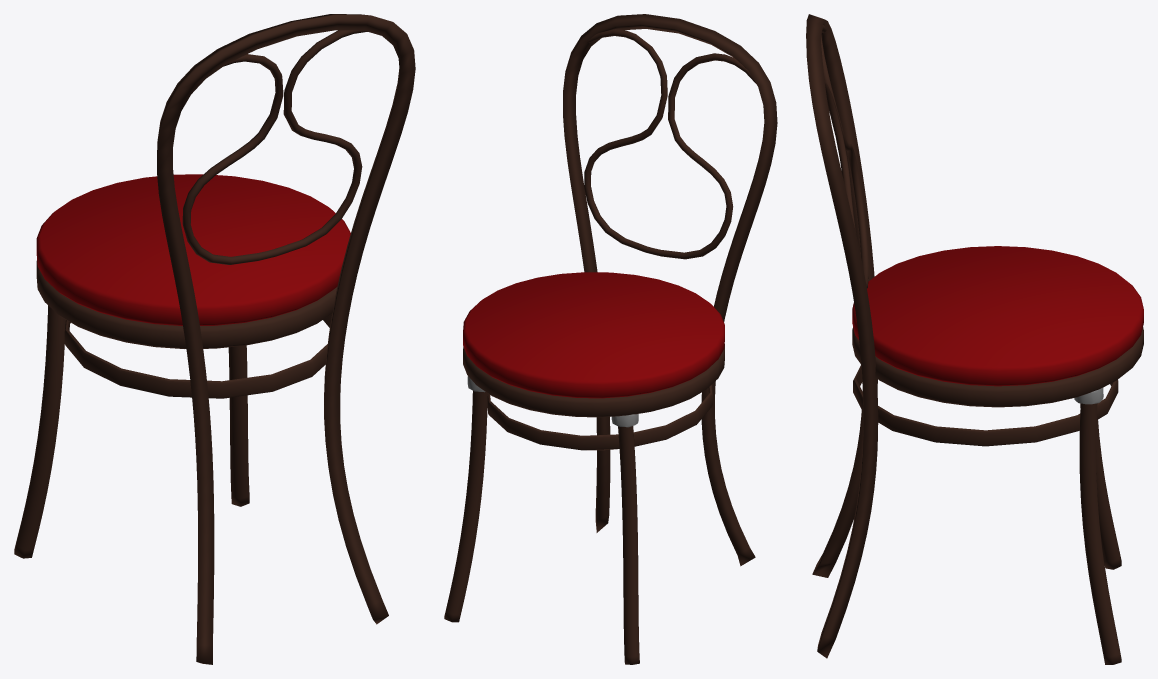
The model's file is sillaNormal.fbx.
3 renders of one model, left to right at view 1: azimuth 30°, elevation 25°; view 2: azimuth 150°, elevation 25°; view 3: azimuth 270°, elevation 25°, orthographic. The views are drawn at different scales.
Parts seen in each view (by area): view 1: Cylinder.009, NurbsPath, NurbsPath.002, Cylinder, NurbsPath.001, Cylinder.001; view 2: Cylinder.009, NurbsPath, NurbsPath.002, Cylinder, NurbsPath.001, Cylinder.001; view 3: Cylinder.009, NurbsPath, NurbsPath.002, Cylinder, Cylinder.001, NurbsPath.001.
Boxes of the visible parts, box(x1,y1,x2,y2) form: Cylinder.009: box(36, 174, 350, 325); NurbsPath: box(157, 14, 415, 664); NurbsPath.002: box(14, 305, 249, 558); Cylinder: box(36, 260, 337, 348); NurbsPath.001: box(182, 30, 367, 264); Cylinder.001: box(64, 314, 331, 398); Cylinder.009: box(463, 272, 724, 398); NurbsPath: box(563, 14, 777, 566); NurbsPath.002: box(444, 391, 639, 664); Cylinder: box(463, 344, 724, 417); NurbsPath.001: box(584, 29, 755, 259); Cylinder.001: box(487, 384, 712, 450); Cylinder.009: box(852, 246, 1143, 386); NurbsPath: box(806, 14, 878, 658); NurbsPath.002: box(1079, 403, 1121, 664); Cylinder: box(852, 327, 1143, 407); Cylinder.001: box(853, 365, 1118, 446); NurbsPath.001: box(821, 25, 868, 288).
Bounding box in the file's own units: 120 × 266 × 140.
